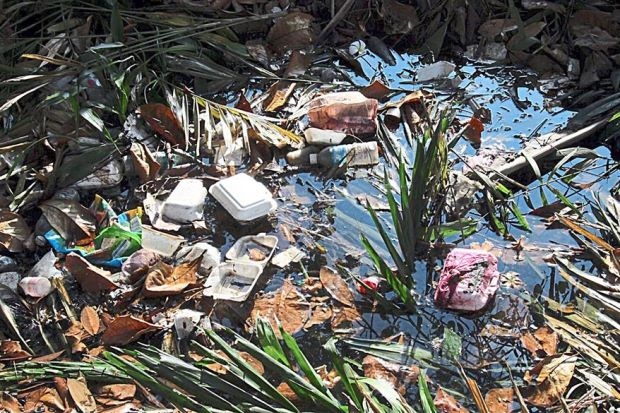trash: (39, 30, 544, 342)
water: (168, 40, 620, 361)
